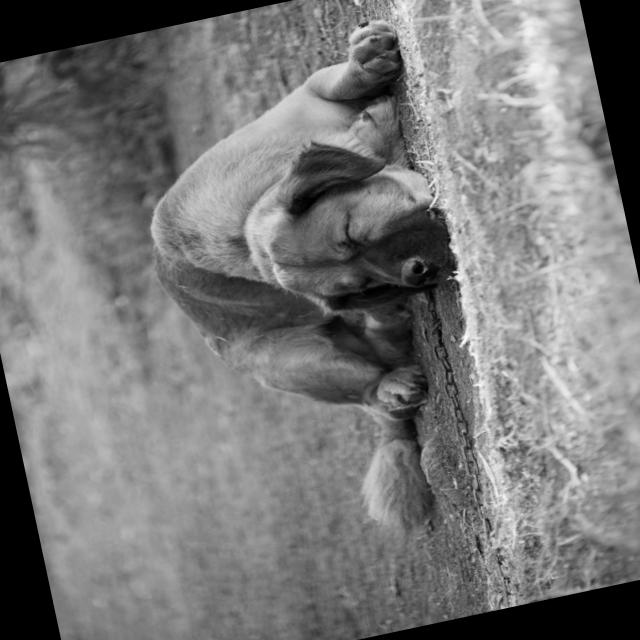laying down: (106, 7, 512, 572)
